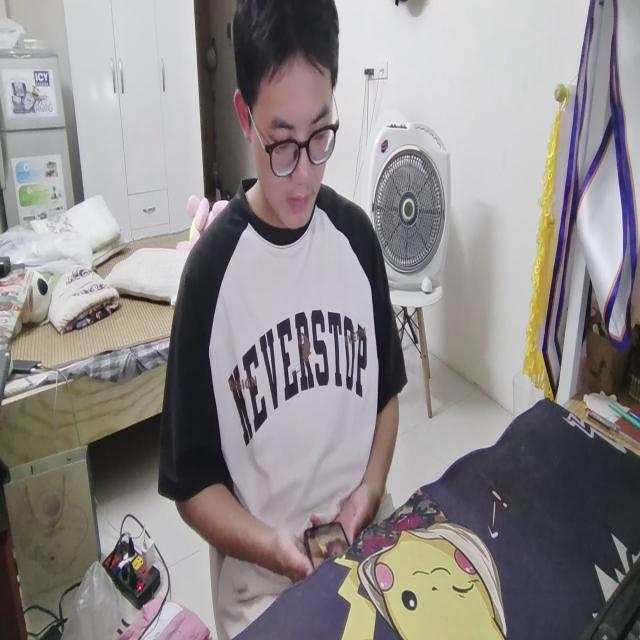phone: (305, 518, 349, 569)
student: (159, 0, 405, 640)
